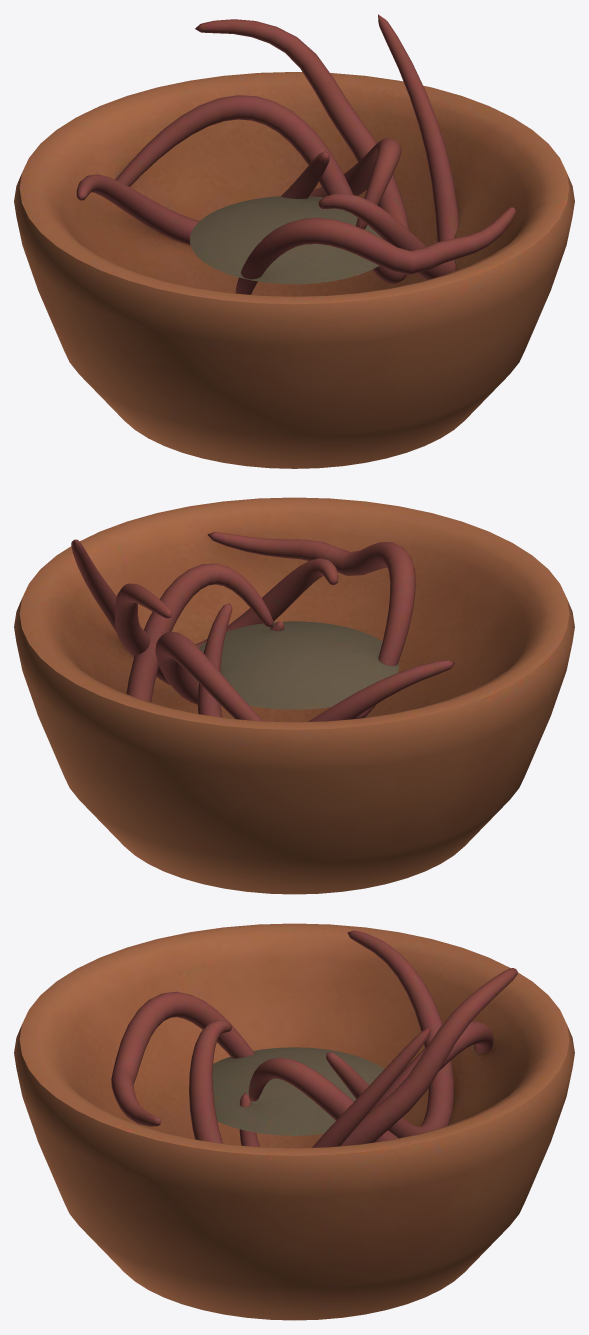
File: sea_worms.glb
3 renders of one model, top to bottom at view 1: azimuth 30°, elevation 25°; view 2: azimuth 150°, elevation 25°; view 3: azimuth 270°, elevation 25°, orthographic.
Parts seen in each view (by area): view 1: sea_worms; view 2: sea_worms; view 3: sea_worms.
Boxes of the visible parts, <box> form: sea_worms: <box>14,14,574,468</box>; sea_worms: <box>14,497,574,894</box>; sea_worms: <box>14,923,574,1320</box>.
Size of the model in its own units: 0.1055 by 0.0685 by 0.1055.
1 material, 1 textured.
